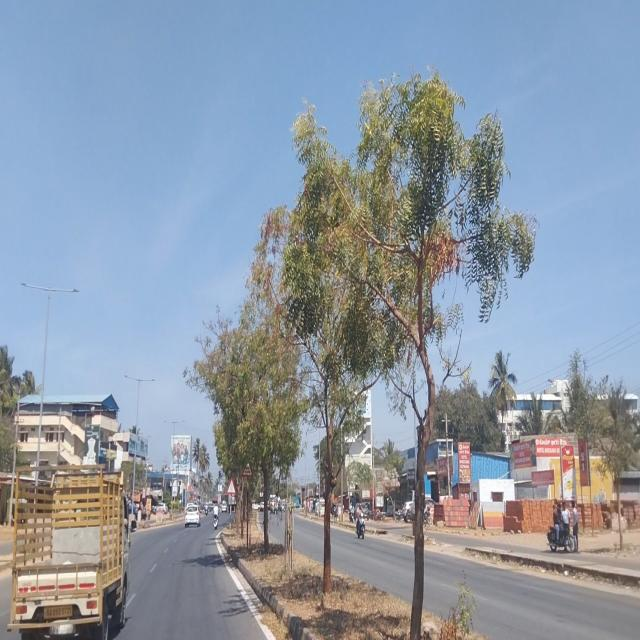bien_cam: (242, 458, 253, 478), (226, 476, 235, 494)
